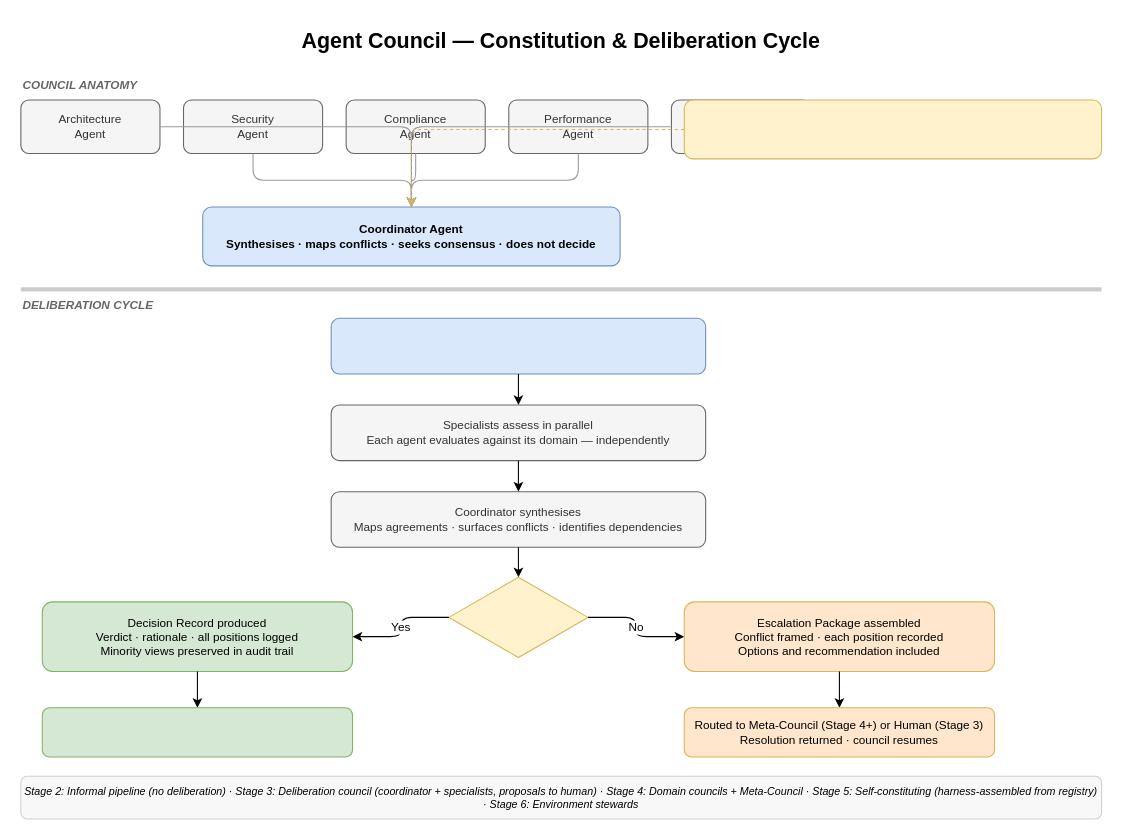
Some shapes in this 1121 by 838 pixel diagram are drawn without their labels. The centre of each missing label's shape, as x and y in pixels:
Charter: domain ownership · decision scope · escalation thresholds: the point at 892,129
Consensus reached?: the point at 518,617
Output authorised and delivered downstream: the point at 197,732
Task Intake Work package · context bundle · escalation thresholds: the point at 518,345
